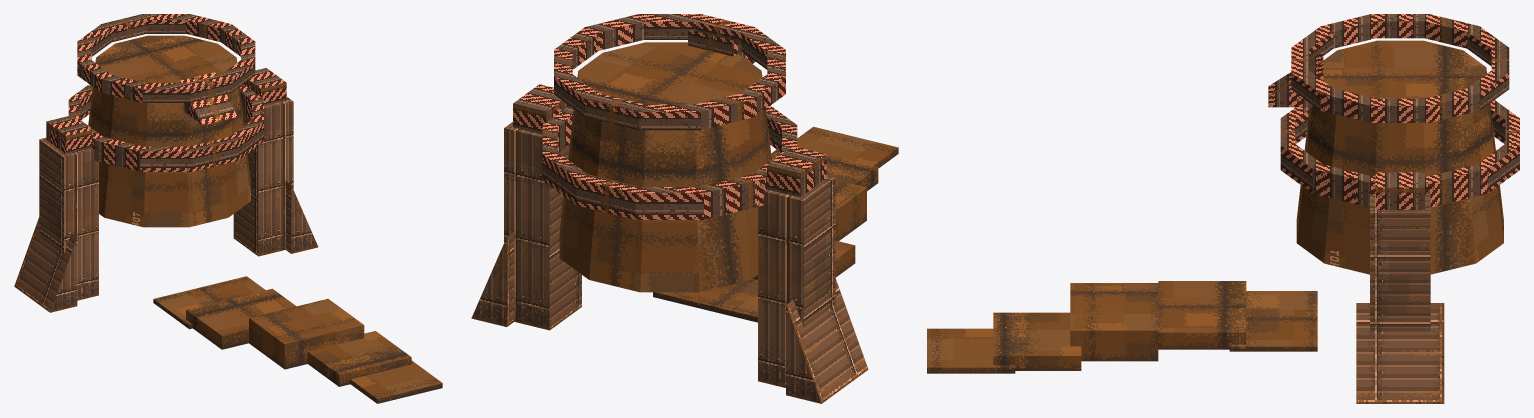
Rendered from lm_pour_ladle.glb.
3 views of the same model, side by side, from view 1: azimuth 30°, elevation 25°; view 2: azimuth 150°, elevation 25°; view 3: azimuth 270°, elevation 25° (orthographic). The views are drawn at different scales.
Parts seen in each view (by area): view 1: lm_pour_ladle; view 2: lm_pour_ladle; view 3: lm_pour_ladle.
Boxes of the visible parts, box(x1,y1,x2,y2) form: lm_pour_ladle: box(14, 14, 442, 403); lm_pour_ladle: box(471, 14, 898, 403); lm_pour_ladle: box(927, 14, 1519, 403).
Bounding box in the file's own units: 6.9 × 5.29 × 10.77.
Materials: 15 (15 with a texture image).
